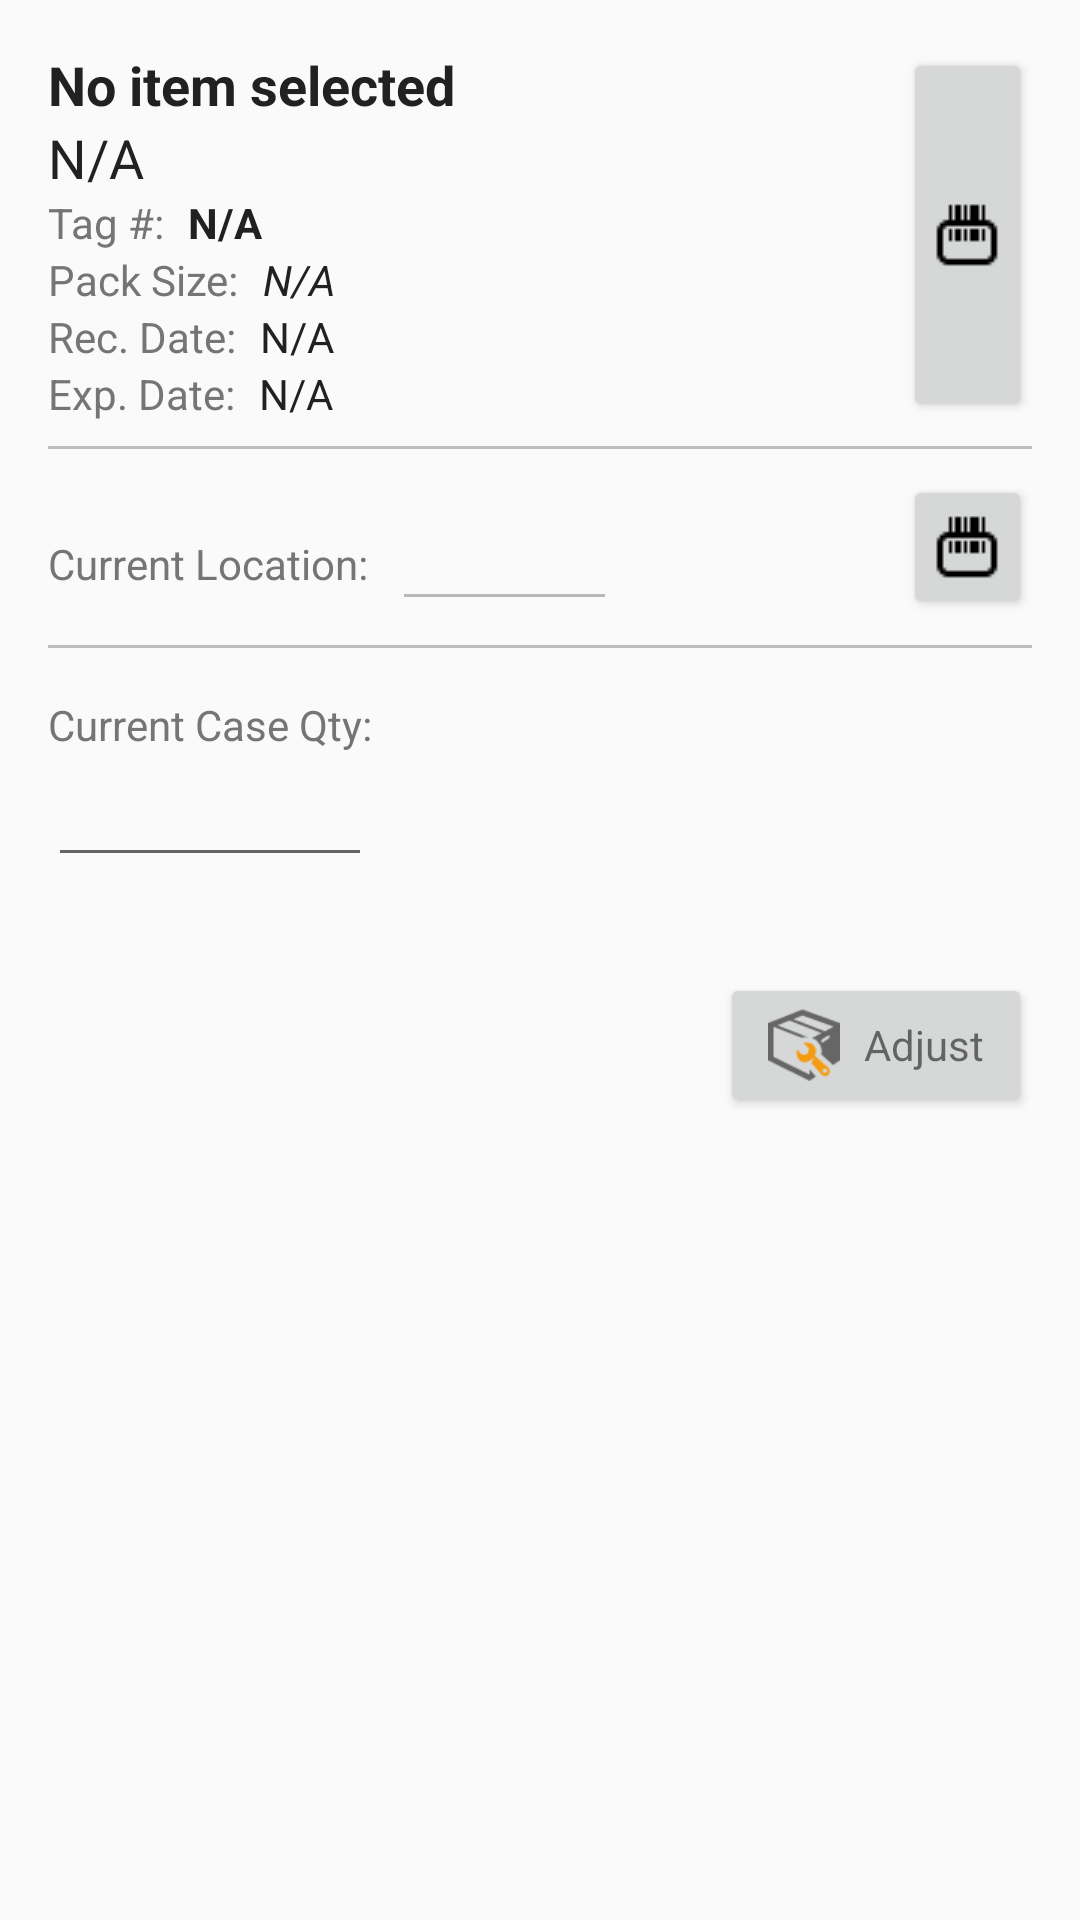

Icon bounding boxes for this 1080px×1920px phone screenshot, format [x1, y1, x2, y2]:
barcode scanner: [936, 204, 998, 266], [936, 516, 998, 578]
